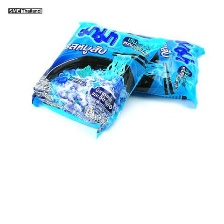snack: (26, 14, 172, 142), (99, 24, 209, 114)
